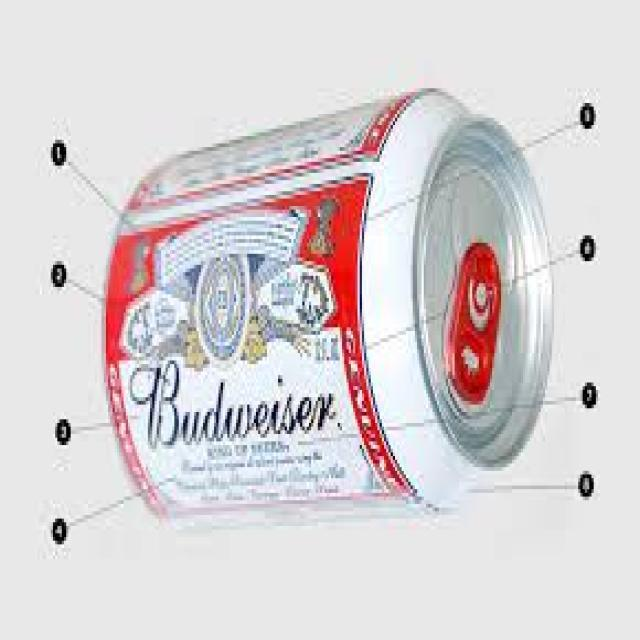can: (104, 88, 556, 524)
